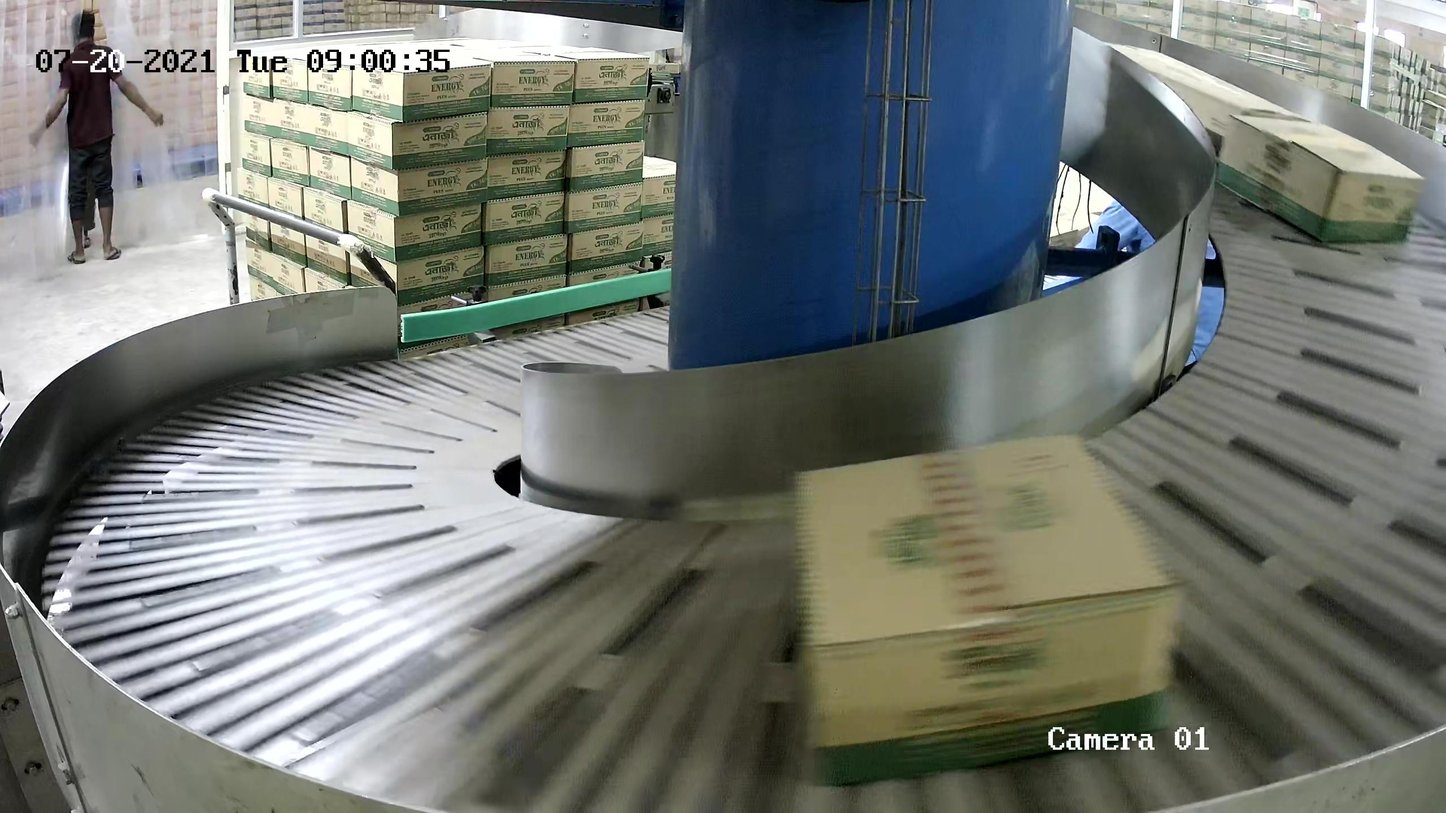Box: (792, 431, 1191, 785), (1215, 113, 1425, 245), (1100, 40, 1313, 165)
